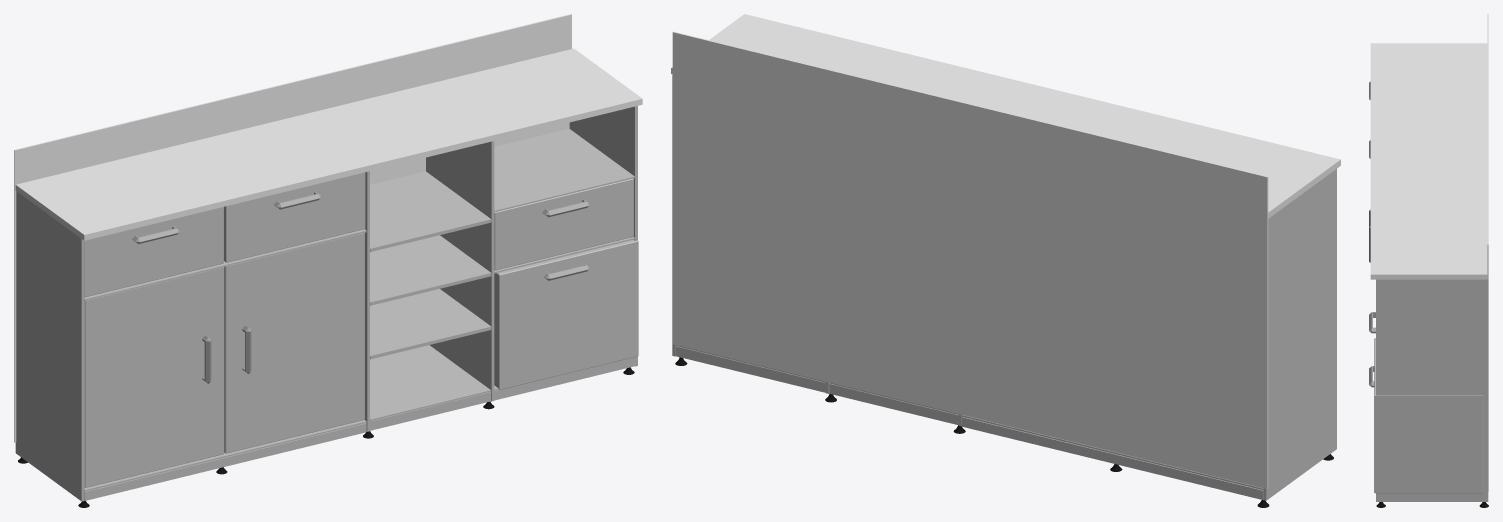
File: Cabinet.FBX
The picture shows the model from 3 angles, left to right: view 1: azimuth 30°, elevation 25°; view 2: azimuth 150°, elevation 25°; view 3: azimuth 270°, elevation 25°; orthographic projection. The views are drawn at different scales.
Visible parts, largest first — view 1: cabinet; view 2: cabinet; view 3: cabinet.
Part boxes in pixels (left/top/right/bottom): cabinet: left=14, top=14, right=642, bottom=507; cabinet: left=671, top=14, right=1340, bottom=507; cabinet: left=1369, top=14, right=1488, bottom=507.
Bounding box in the file's own units: 200 × 106 × 43.86.
2 materials, 1 textured.
